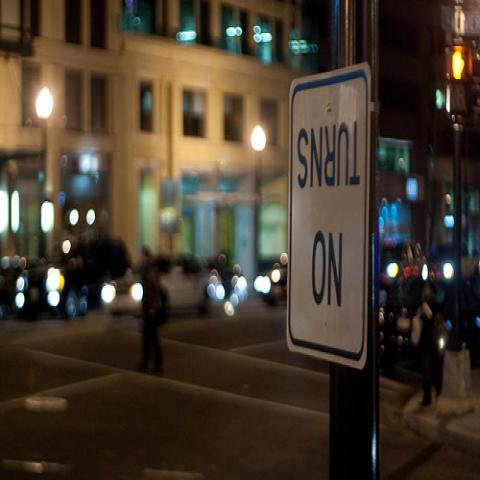car: (22, 234, 132, 325), (106, 251, 211, 320), (378, 239, 428, 324), (253, 254, 288, 304)
